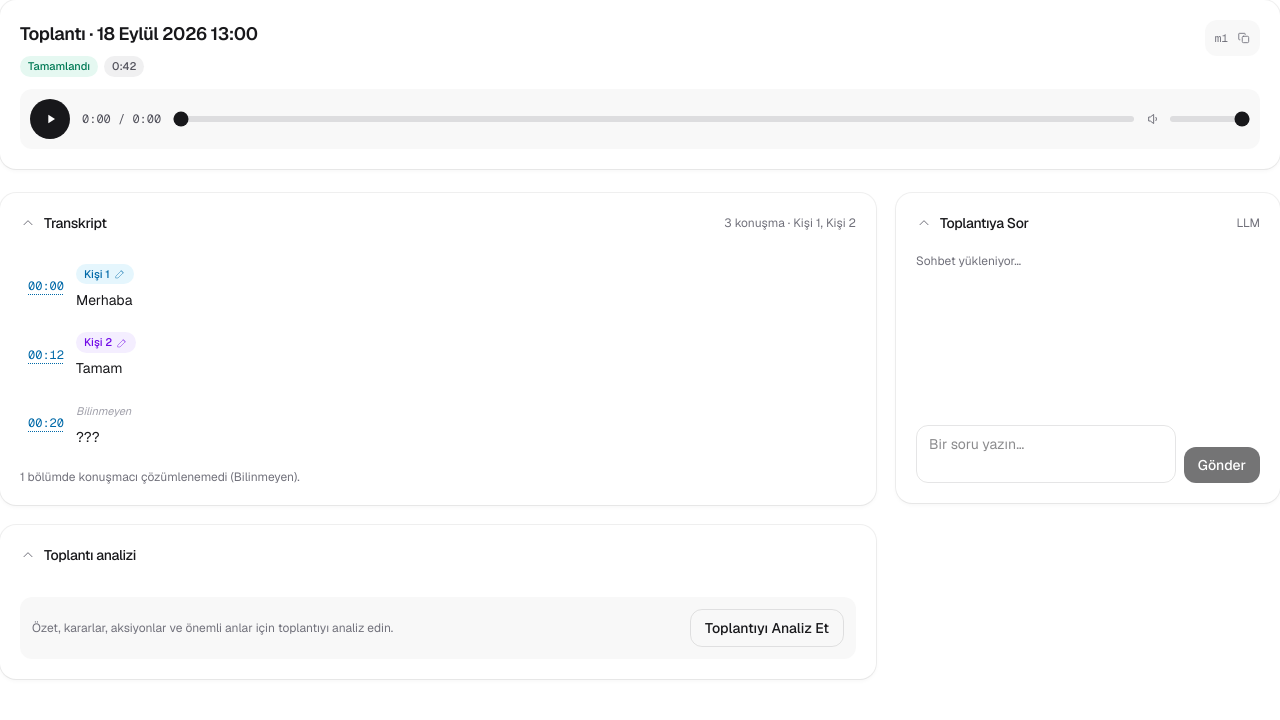
MeetingDetail speaker aliases › renames a speaker for this meeting only and keeps other meetings clean
expect the text "Merhaba" is shown: met, box x1=76 y1=290 x2=132 y2=308
Click the button with aria-label "Kişi 1 · Konuşmacı adını düzenle": (105, 274) x1=76 y1=264 x2=134 y2=284
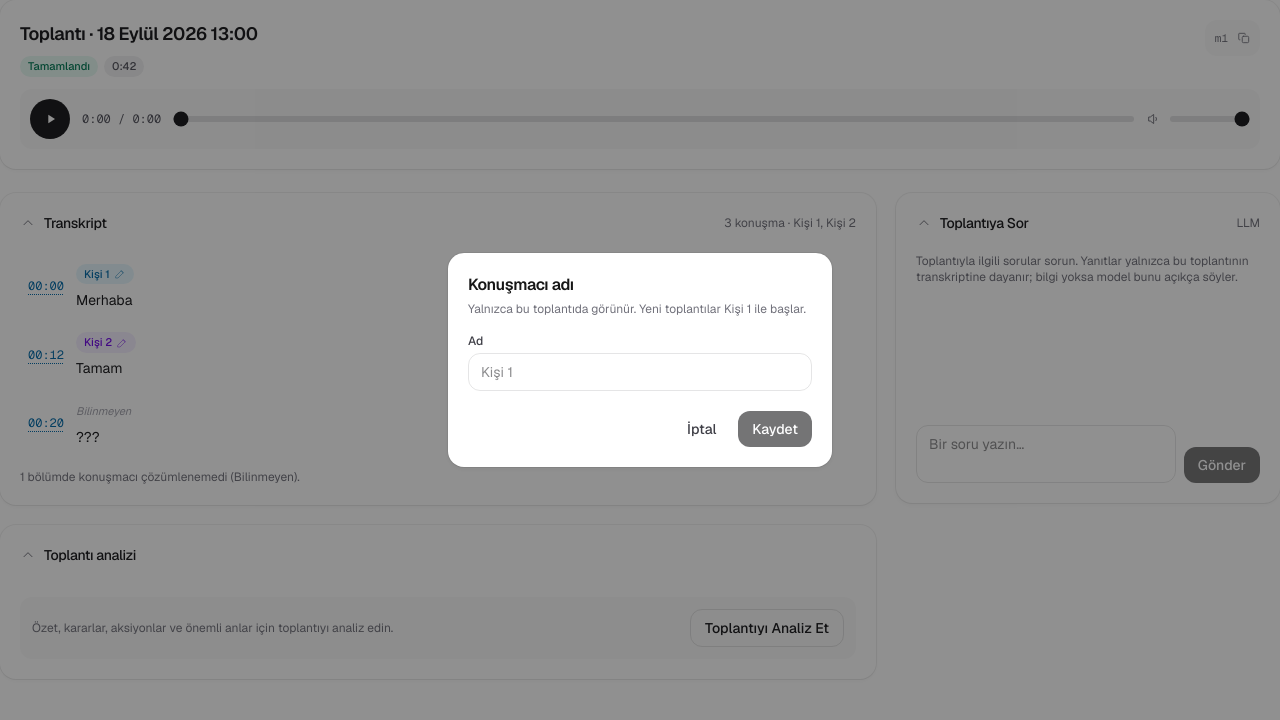
In the field labelled "Ad": (640, 372) x1=468 y1=353 x2=812 y2=391, type "Ahmet"
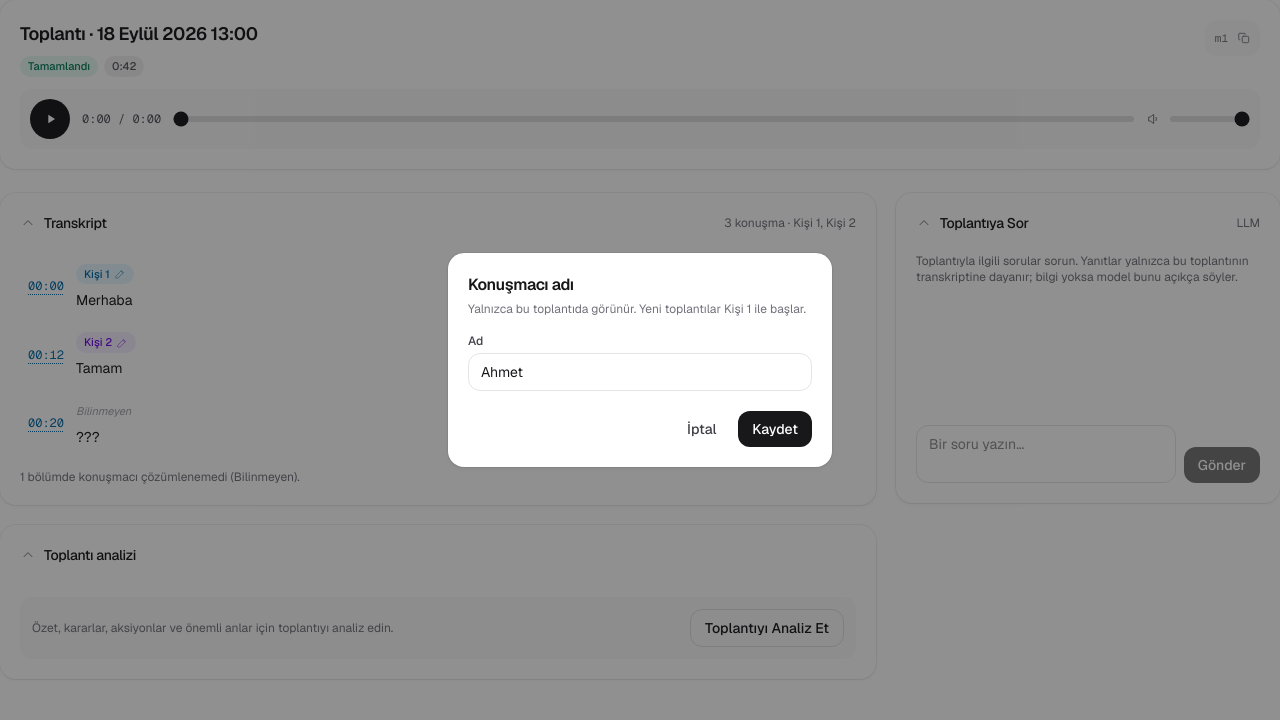
Click the button "Kaydet": (775, 429) x1=738 y1=411 x2=812 y2=447
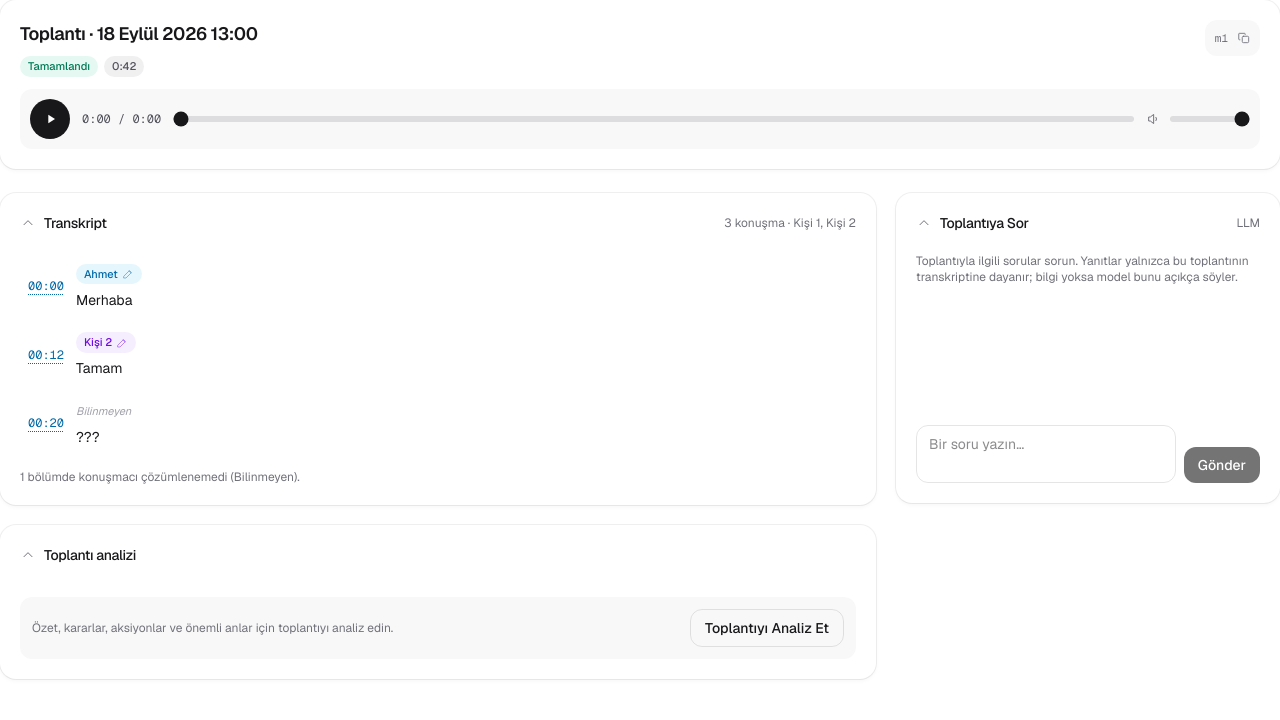
expect the button "Ahmet" is shown: met
# Resetting restores the canonical label through the same dialog.
Click the button with aria-label "Ahmet · Konuşmacı adını düzenle": (109, 274) x1=76 y1=264 x2=142 y2=284
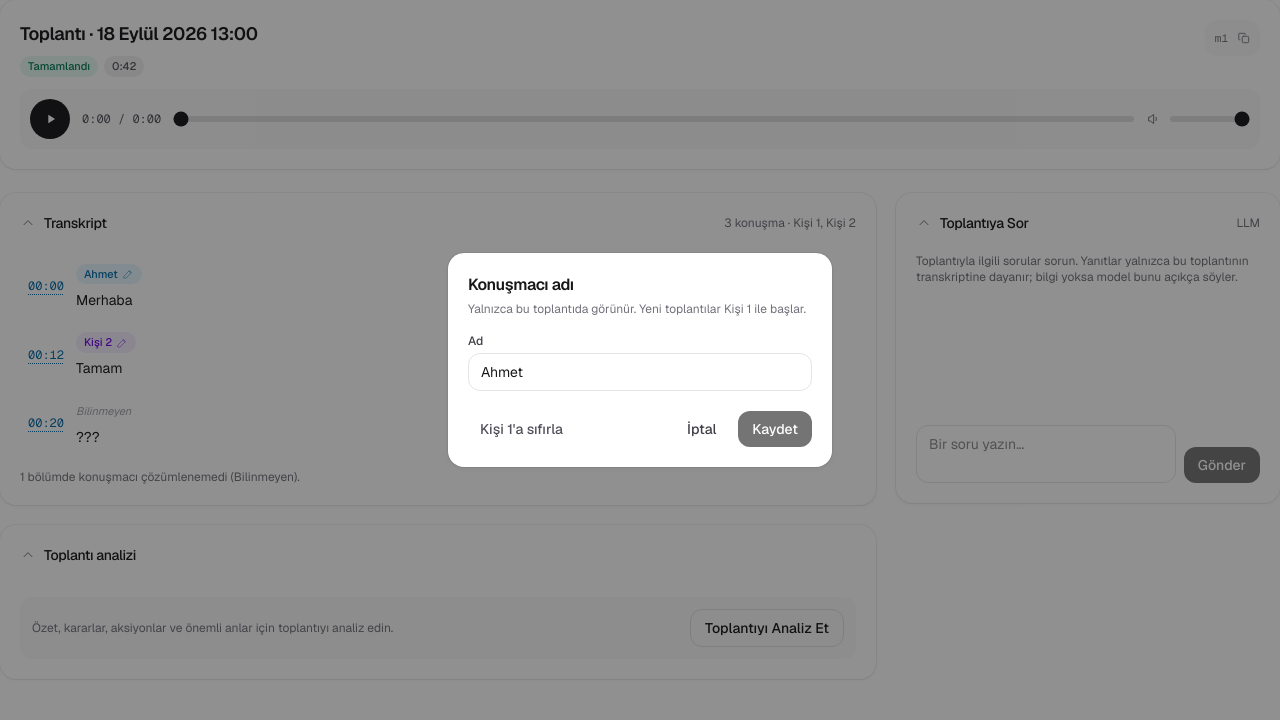
Click the button "Kişi 1'a sıfırla": (522, 429) x1=468 y1=411 x2=575 y2=447
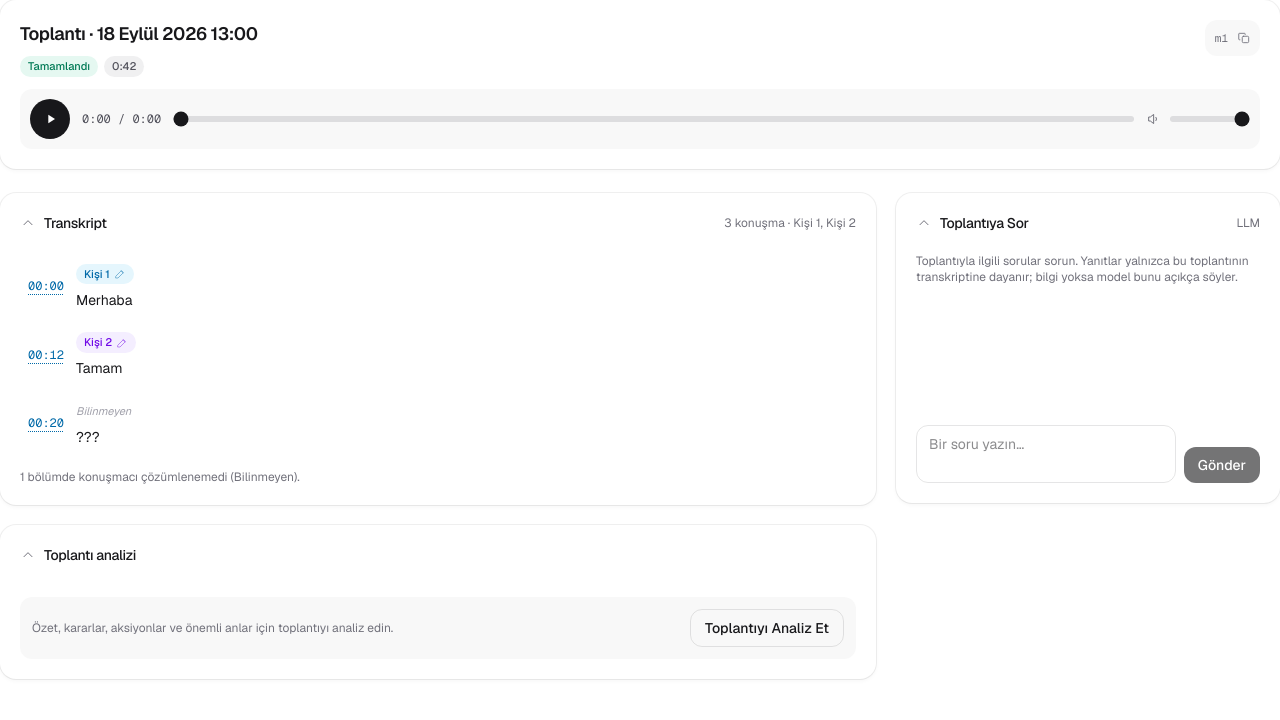
expect the button "Kişi 1" is shown: met, box x1=76 y1=264 x2=134 y2=284
